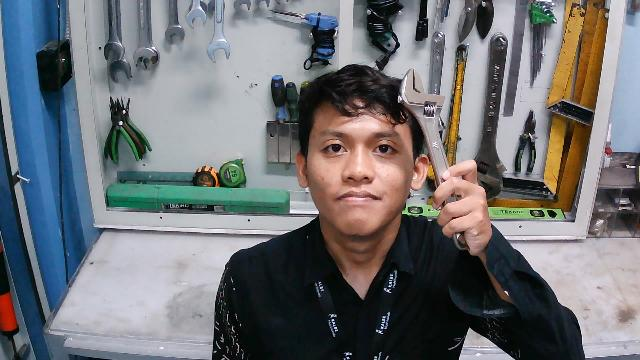kunci_inggris: (396, 69, 479, 249)
